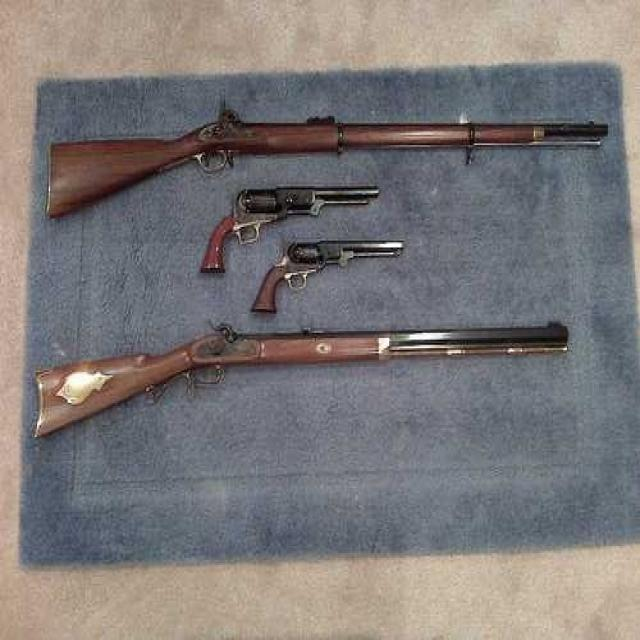Rifle: (31, 260, 582, 488), (40, 80, 624, 227)
